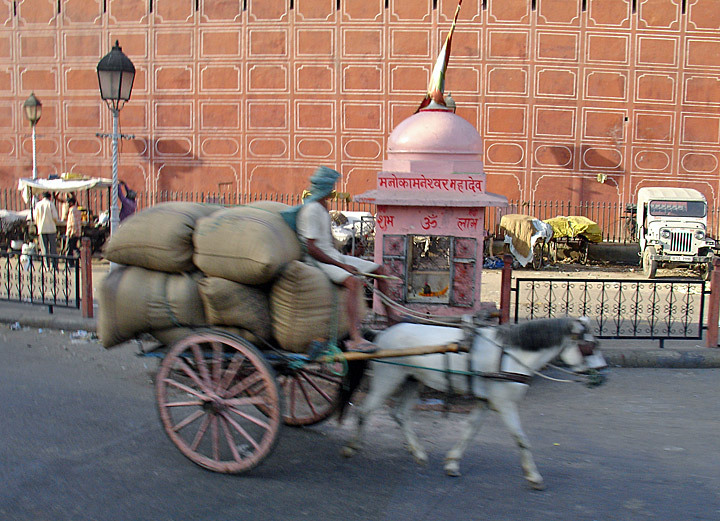horse: (328, 312, 612, 495)
